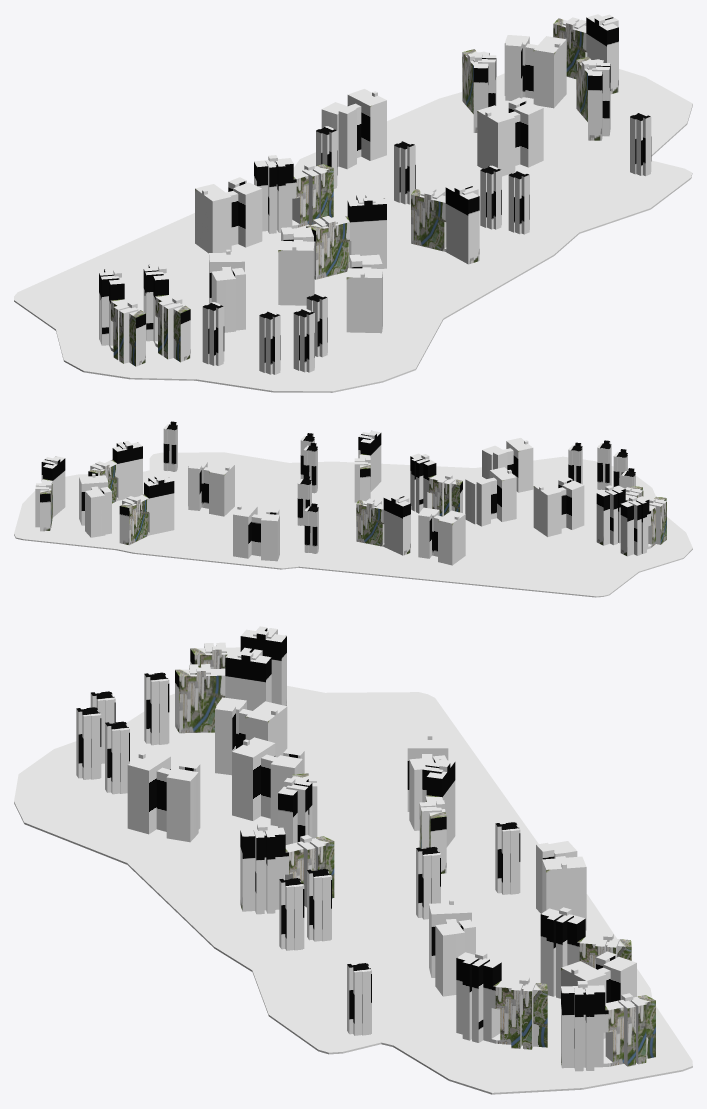
File: ICJ00106_D.glb
3 renders of one model, top to bottom at view 1: azimuth 30°, elevation 25°; view 2: azimuth 150°, elevation 25°; view 3: azimuth 270°, elevation 25°, orthographic. The views are drawn at different scales.
Parts seen in each view (by area): view 1: MainBuilding; view 2: MainBuilding; view 3: MainBuilding.
Part boxes in pixels (x1,y1,x2,y2): MainBuilding: (14, 14, 692, 392); MainBuilding: (14, 421, 692, 597); MainBuilding: (14, 626, 692, 1094).
Size of the model in its own units: 6.05e-06 by 5.56e-07 by 4.19e-06.
Materials: 1 (1 with a texture image).
